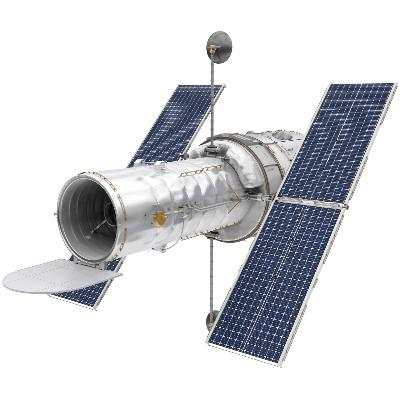antenna: (203, 29, 234, 65), (206, 309, 223, 335)
body: (53, 128, 307, 266)
solar: (203, 80, 400, 370), (46, 82, 228, 314)
